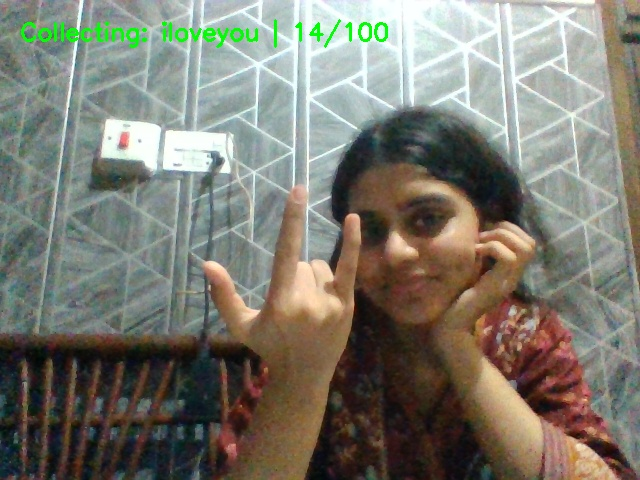iloveyou: (200, 181, 388, 390)
